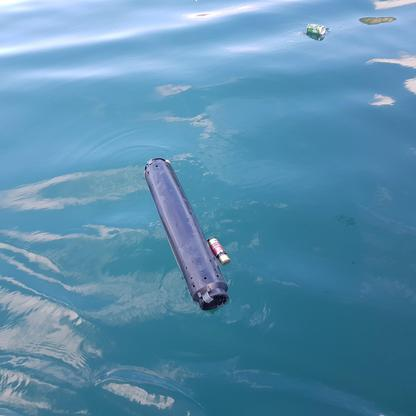can: (307, 23, 326, 34)
